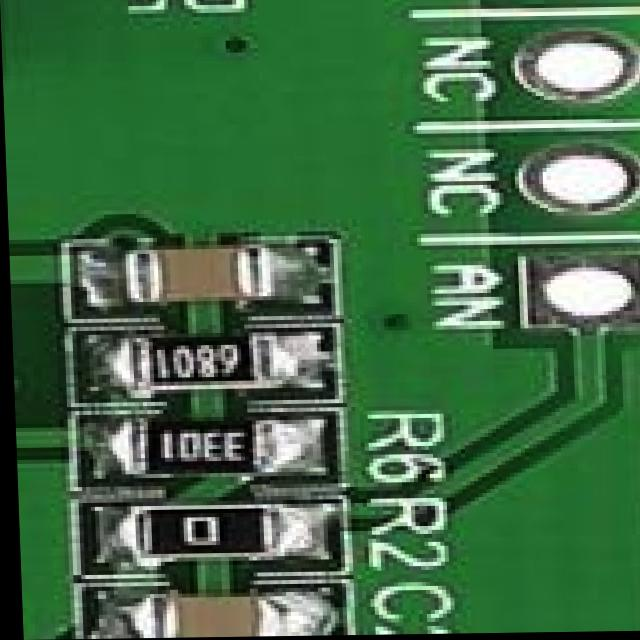capacitor: (91, 243, 301, 299), (113, 588, 323, 639)
resistor: (93, 497, 308, 563), (92, 413, 290, 475), (122, 327, 268, 395)
